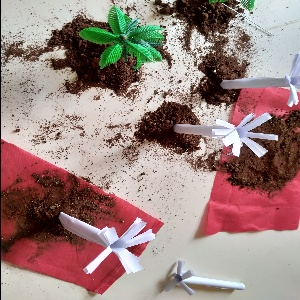plant: (76, 6, 165, 68)
weed: (56, 200, 152, 279), (165, 105, 284, 164), (215, 54, 300, 122), (164, 256, 251, 300)
